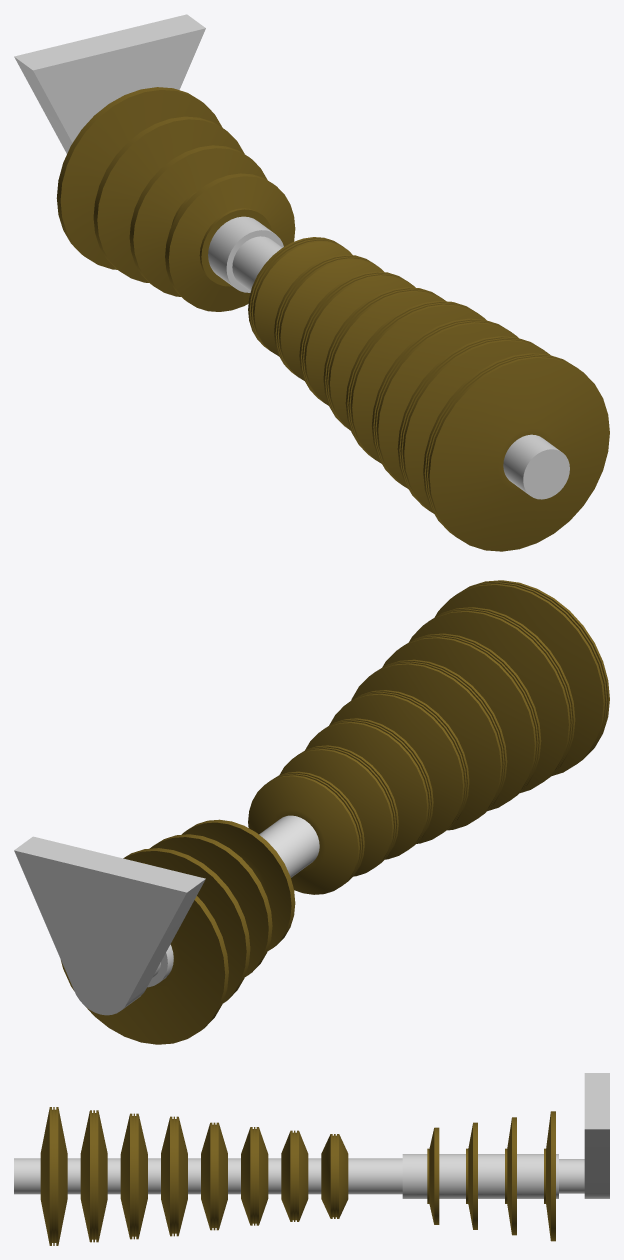
Rendered from turbine.fbx.
3 views of the same model, one above another, from view 1: azimuth 30°, elevation 25°; view 2: azimuth 150°, elevation 25°; view 3: azimuth 270°, elevation 25° (orthographic). The views are drawn at different scales.
Parts seen in each view (by area): view 1: Turbine; view 2: Turbine; view 3: Turbine.
Boxes of the visible parts, bbox=[...] form: Turbine: bbox=[14, 14, 609, 551]; Turbine: bbox=[14, 580, 609, 1044]; Turbine: bbox=[14, 1073, 609, 1245].
Size of the model in its own units: 308 by 338 by 1320.
